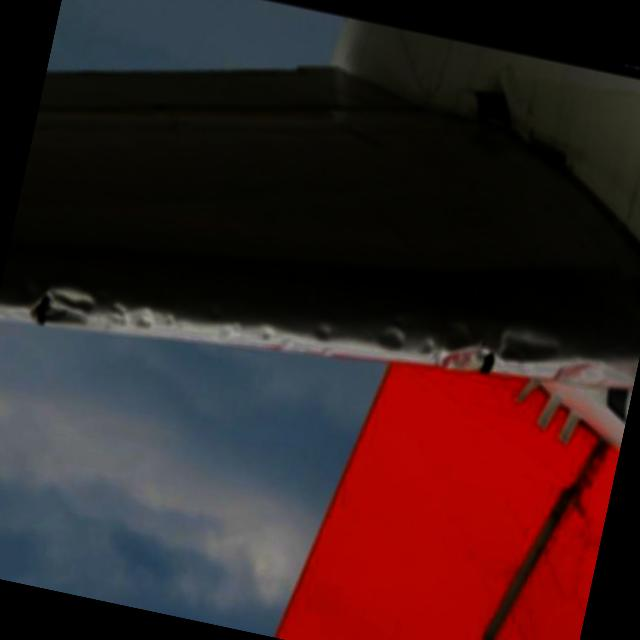dent: (24, 218, 612, 440)
